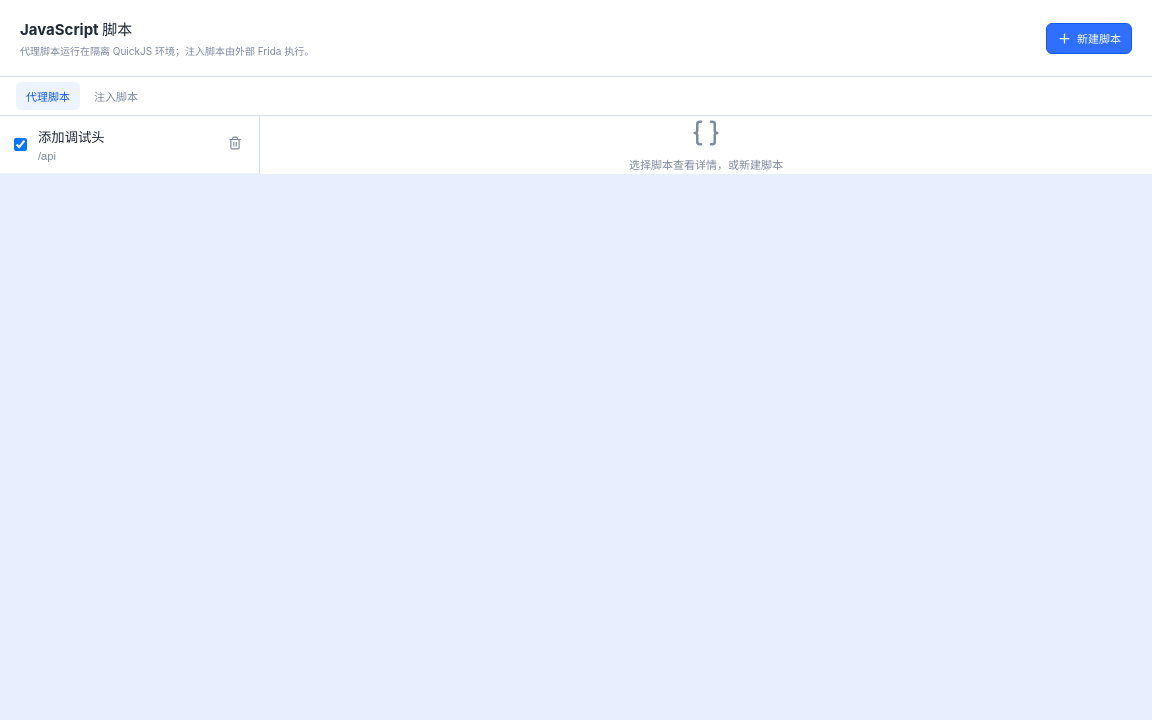
ScriptWorkspace › separates proxy and injection scripts and protects built-ins
Expected: the text "添加调试头" is shown, x1=38 y1=127 x2=105 y2=146
Step 1. Click the tab "注入脚本" → (116, 96), box x1=84 y1=82 x2=148 y2=110
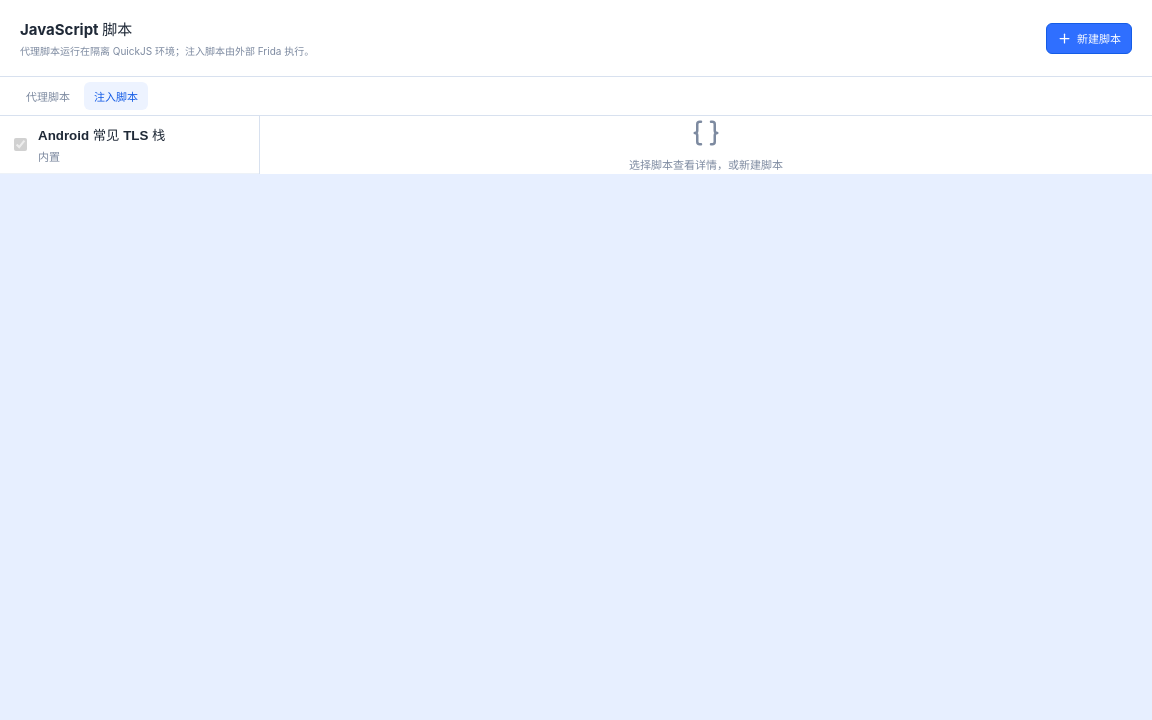
Step 2. Click the button with aria-label "编辑 Android 常见 TLS 栈" → (126, 144), box x1=32 y1=124 x2=221 y2=165
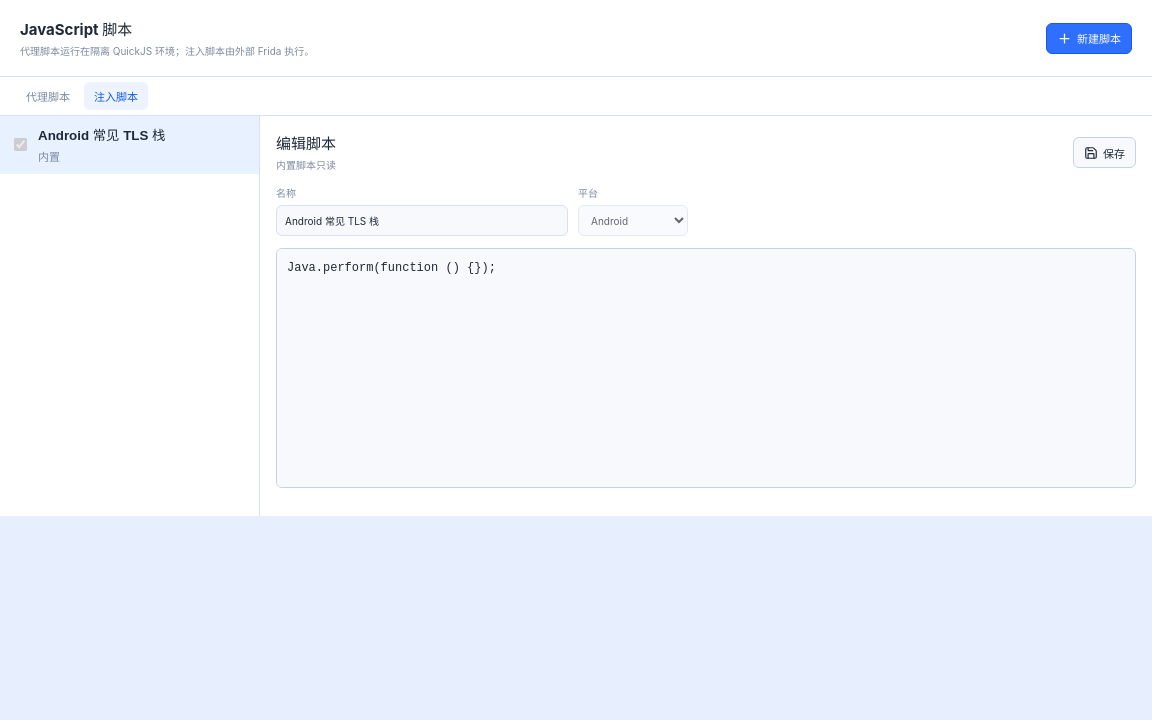
Now the text "内置脚本只读" is shown, box x1=276 y1=159 x2=336 y2=171
Now the button with aria-label "保存脚本" is disabled, box x1=1073 y1=137 x2=1136 y2=168
